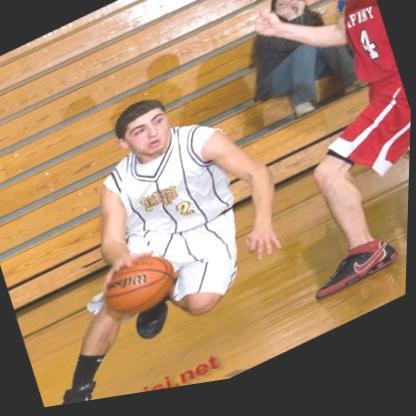basketball: (98, 248, 184, 334)
